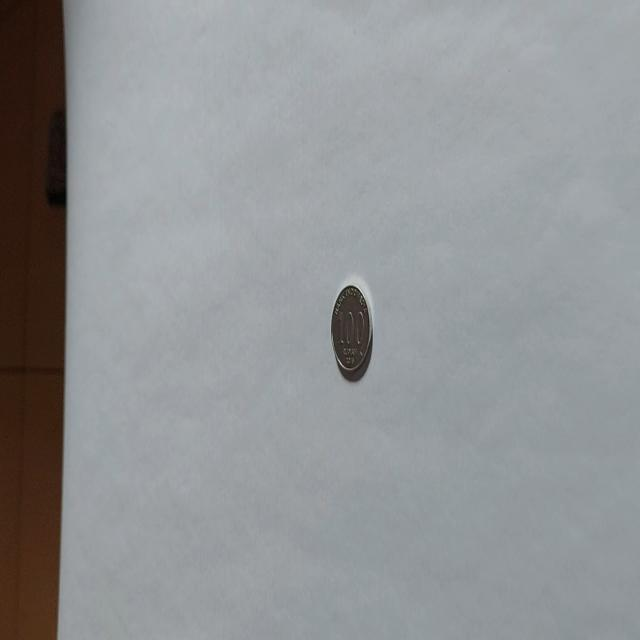seratus rupiah: (330, 282, 372, 382)
